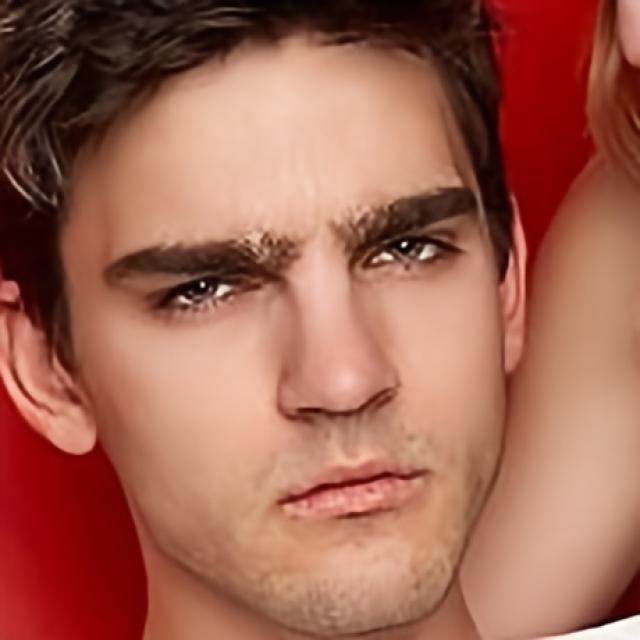anger: (78, 29, 510, 621)
